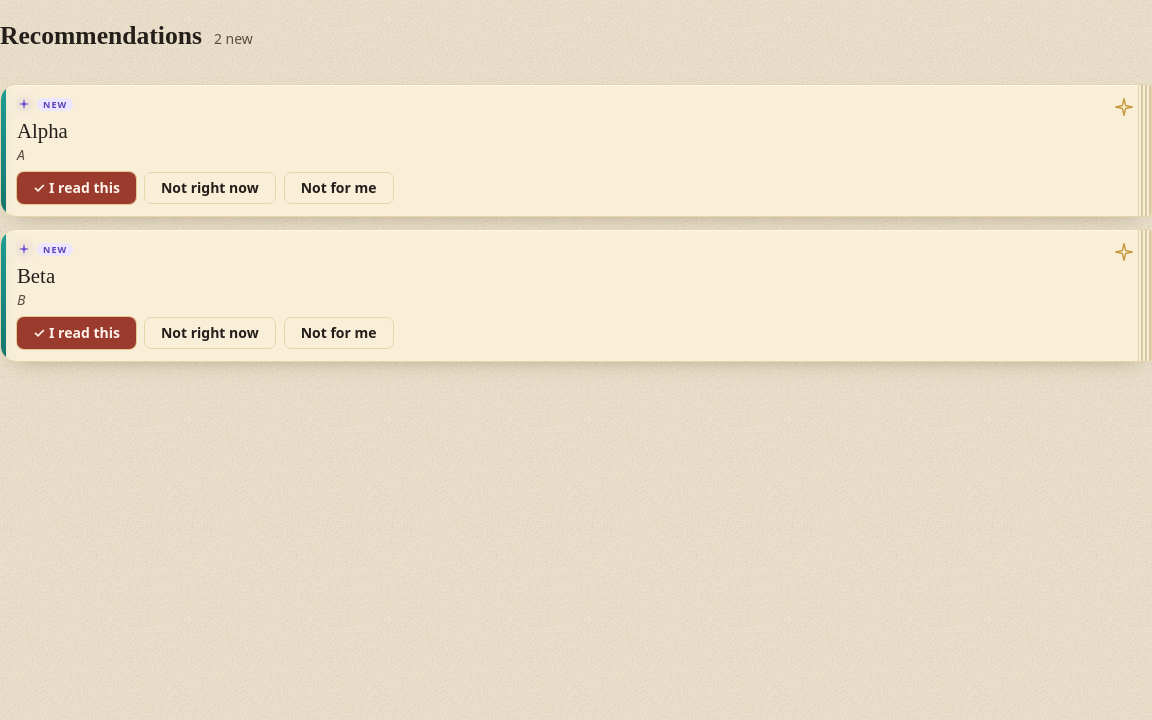
Test: RecommendationsView › keeps "New" markers on the remaining recs after dismissing one (no mass-clear)
This screenshot has width=1152, height=720.
expect the text "Alpha" is shown: met, box [17, 120, 68, 144]
expect the text "New" is shown 2 times: met, box [37, 98, 73, 111]; [37, 243, 73, 256]
Click the button "Not for me" below "Alpha". click: point(339, 188)
box: [284, 172, 394, 204]
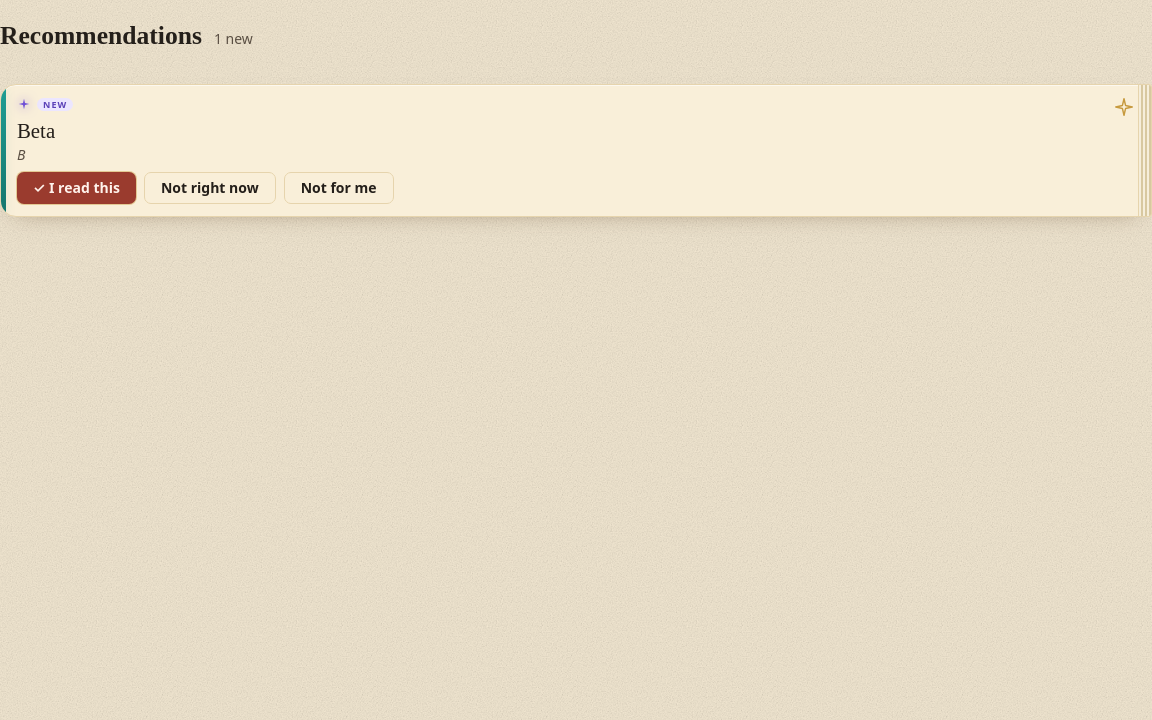
expect the text "Alpha" is gone: met
expect the text "New" is shown once: met, box [37, 98, 73, 111]
expect the text "1 new" is shown: met, box [214, 29, 253, 48]
